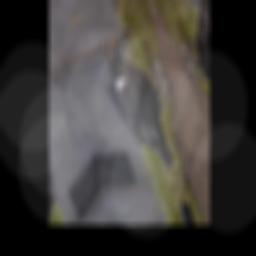Crow: (96, 13, 198, 189)
